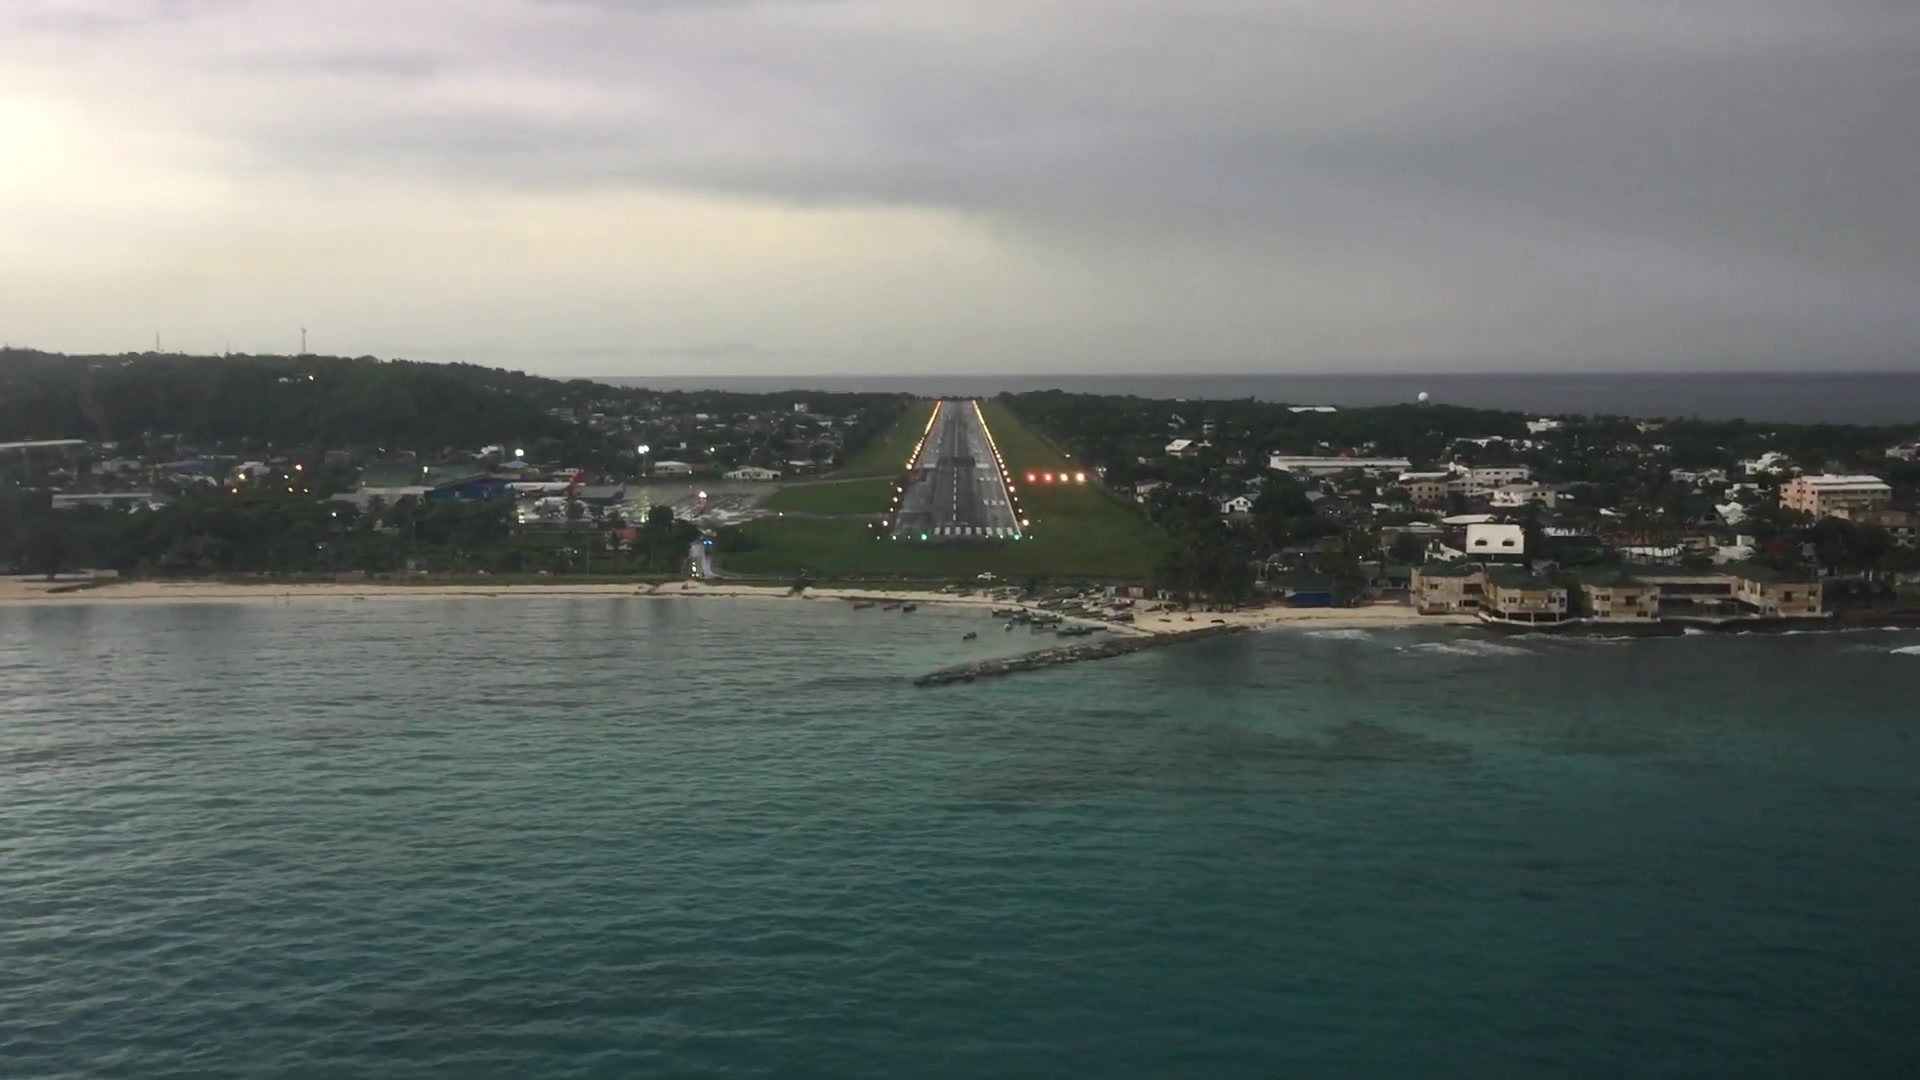entrance: (931, 524, 1014, 538)
runway: (876, 400, 1022, 542)
